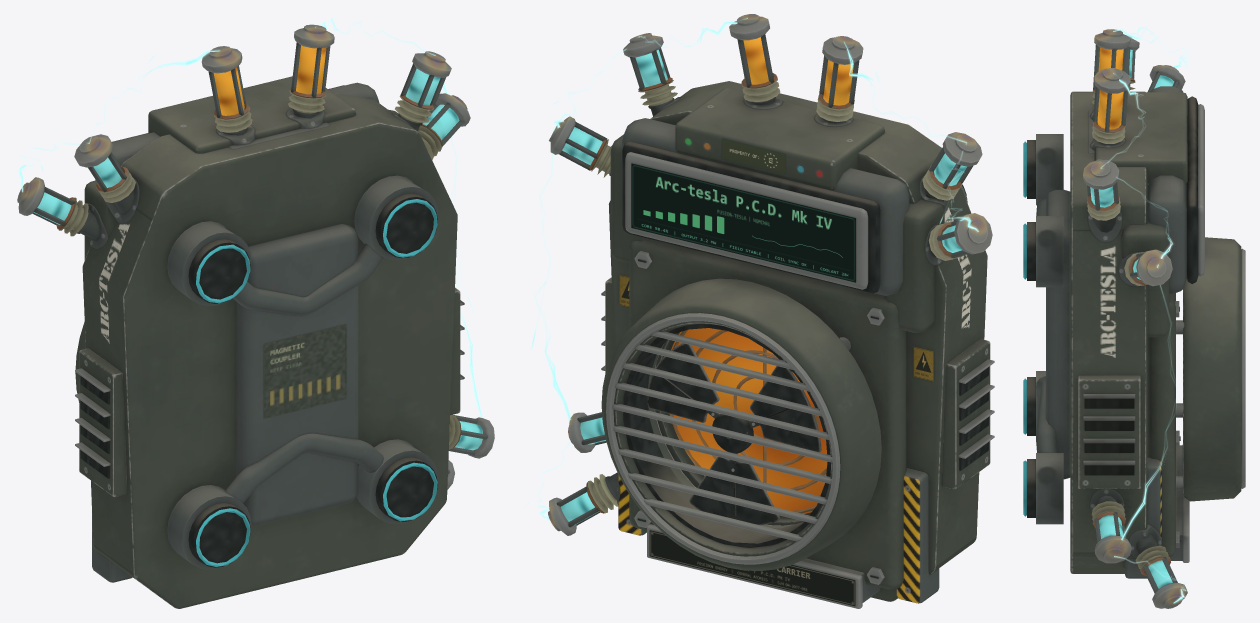
The picture shows the model from 3 angles, left to right: view 1: azimuth 30°, elevation 25°; view 2: azimuth 150°, elevation 25°; view 3: azimuth 270°, elevation 25°; orthographic projection. The views are drawn at different scales.
Parts seen in each view (by area): view 1: Armored reactor shell, Rear magnetic spine, Magnet rating plate, Top bridge, Side vent mounting plate -1, Rear coupler arm lower, Rear coupler arm upper, Insulated mounting pad.001, Insulated mounting pad, Insulated mounting pad.002, Insulated mounting pad.003, Magnetic pole shoe.001 (+19 smaller); view 2: Outer fan casting, Fan service hatch, Armored reactor shell, ARC status CRT, Top bridge, Amber heat exchanger, Polished fan rim, Inner vent barrel, Screen metal surround, Upper instrument canopy, Screen gasket, Shoulder armor -1 (+32 smaller); view 3: Armored reactor shell, Outer fan casting, Top bridge, Rear magnetic spine, Fan service hatch, Side vent mounting plate 1, Upper instrument canopy, Shoulder armor 1, Screen gasket, Magnetic pole shoe.002, Magnetic pole shoe.003, Magnetic pole shoe.001 (+35 smaller).
Boxes of the visible parts, bbox=[...] form: Armored reactor shell: bbox=[82, 93, 457, 608]; Rear magnetic spine: bbox=[236, 224, 358, 525]; Magnet rating plate: bbox=[264, 324, 346, 418]; Top bridge: bbox=[148, 76, 355, 153]; Side vent mounting plate -1: bbox=[79, 348, 127, 496]; Rear coupler arm lower: bbox=[225, 433, 383, 503]; Rear coupler arm upper: bbox=[233, 243, 383, 315]; Insulated mounting pad.001: bbox=[188, 239, 250, 303]; Insulated mounting pad: bbox=[188, 502, 250, 567]; Insulated mounting pad.002: bbox=[375, 457, 437, 521]; Insulated mounting pad.003: bbox=[375, 193, 437, 258]; Magnetic pole shoe.001: bbox=[167, 221, 251, 306]; Outer fan casting: bbox=[601, 278, 881, 570]; Fan service hatch: bbox=[629, 239, 906, 589]; Armored reactor shell: bbox=[608, 81, 987, 601]; ARC status CRT: bbox=[631, 163, 855, 282]; Top bridge: bbox=[675, 88, 884, 190]; Amber heat exchanger: bbox=[669, 328, 827, 513]; Polished fan rim: bbox=[606, 313, 840, 564]; Inner vent barrel: bbox=[623, 324, 830, 547]; Screen metal surround: bbox=[625, 152, 868, 289]; Upper instrument canopy: bbox=[622, 118, 909, 295]; Screen gasket: bbox=[622, 141, 880, 293]; Shoulder armor -1: bbox=[883, 199, 944, 332]; Armored reactor shell: bbox=[1070, 91, 1147, 573]; Outer fan casting: bbox=[1183, 237, 1241, 501]; Top bridge: bbox=[1094, 92, 1187, 186]; Rear magnetic spine: bbox=[1046, 189, 1070, 479]; Fan service hatch: bbox=[1147, 293, 1175, 556]; Side vent mounting plate 1: bbox=[1078, 375, 1140, 488]; Upper instrument canopy: bbox=[1147, 86, 1187, 293]; Shoulder armor 1: bbox=[1121, 220, 1169, 337]; Screen gasket: bbox=[1186, 96, 1198, 283]; Magnetic pole shoe.002: bbox=[1036, 453, 1063, 524]; Magnetic pole shoe.003: bbox=[1036, 216, 1063, 287]; Magnetic pole shoe.001: bbox=[1036, 134, 1063, 205].
Bounding box in the file's own units: 0.4618 × 0.5143 × 0.2177.
Materials: 21 (21 with a texture image).
